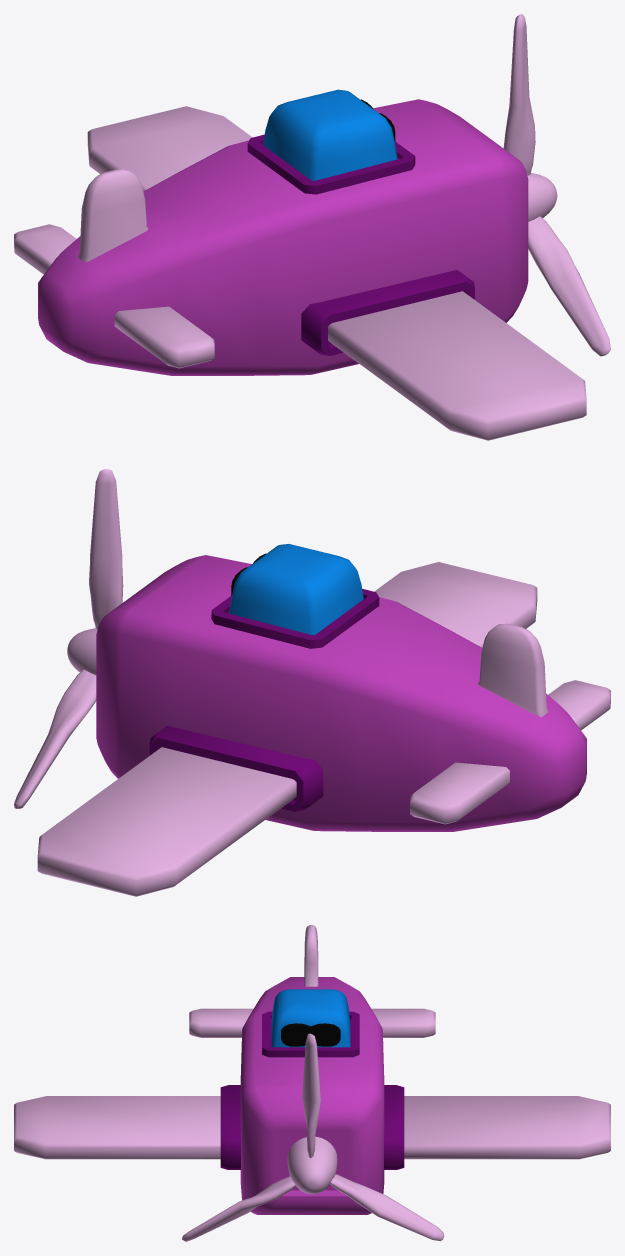
The model's file is PinkPlaneEnemy.fbx.
3 renders of one model, top to bottom at view 1: azimuth 30°, elevation 25°; view 2: azimuth 150°, elevation 25°; view 3: azimuth 270°, elevation 25°, orthographic. The views are drawn at different scales.
Visible parts, largest first — view 1: base_low2, wing_low2, pilot_low2, propeller_low3, wingback_low2, wingsup_low2, taile_low2, topsup_low2; view 2: base_low2, wing_low2, pilot_low2, propeller_low3, wingback_low2, wingsup_low2, taile_low2, topsup_low2; view 3: wing_low2, base_low2, propeller_low3, wingsup_low2, wingback_low2, pilot_low2, topsup_low2, glass_low2, taile_low2.
Boxes of the visible parts, x1=… form: base_low2: x1=38, y1=99, x2=528, y2=375; wing_low2: x1=87, y1=106, x2=586, y2=440; pilot_low2: x1=263, y1=89, x2=397, y2=180; propeller_low3: x1=503, y1=14, x2=610, y2=356; wingback_low2: x1=14, y1=224, x2=214, y2=368; wingsup_low2: x1=301, y1=269, x2=474, y2=355; taile_low2: x1=78, y1=169, x2=148, y2=262; topsup_low2: x1=247, y1=134, x2=415, y2=194; base_low2: x1=96, y1=555, x2=586, y2=831; wing_low2: x1=37, y1=562, x2=537, y2=896; pilot_low2: x1=229, y1=544, x2=363, y2=634; propeller_low3: x1=14, y1=469, x2=123, y2=808; wingback_low2: x1=410, y1=680, x2=610, y2=824; wingsup_low2: x1=149, y1=725, x2=323, y2=811; taile_low2: x1=478, y1=623, x2=548, y2=717; topsup_low2: x1=211, y1=589, x2=379, y2=648; wing_low2: x1=14, y1=1096, x2=610, y2=1159; base_low2: x1=240, y1=977, x2=384, y2=1214; propeller_low3: x1=182, y1=1033, x2=444, y2=1241; wingsup_low2: x1=220, y1=1085, x2=404, y2=1169; wingback_low2: x1=189, y1=1008, x2=435, y2=1037; pilot_low2: x1=271, y1=989, x2=350, y2=1047; topsup_low2: x1=262, y1=1011, x2=359, y2=1057; glass_low2: x1=281, y1=1023, x2=340, y2=1046; taile_low2: x1=304, y1=925, x2=318, y2=986.
Size of the model in its own units: 1109 by 584 by 1520.
